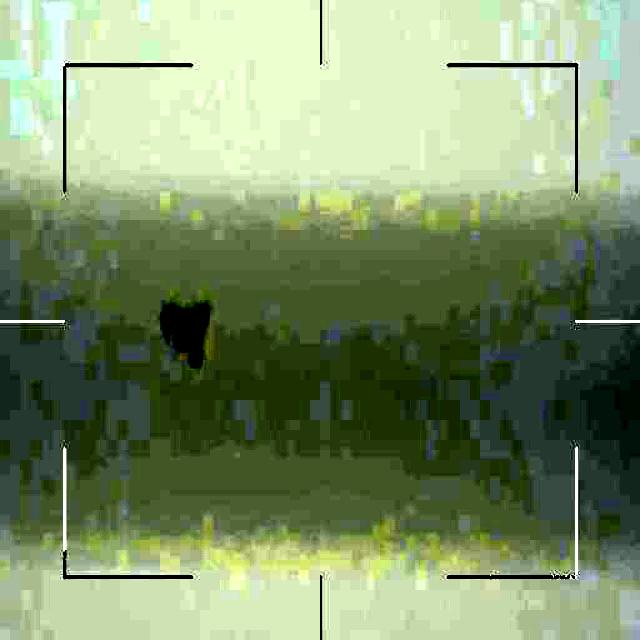bird: (155, 295, 224, 370)
